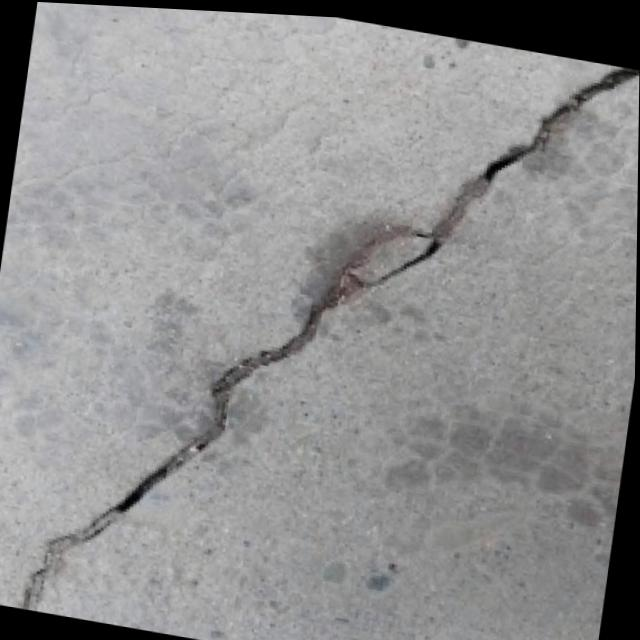Crack: (2, 0, 640, 640)
